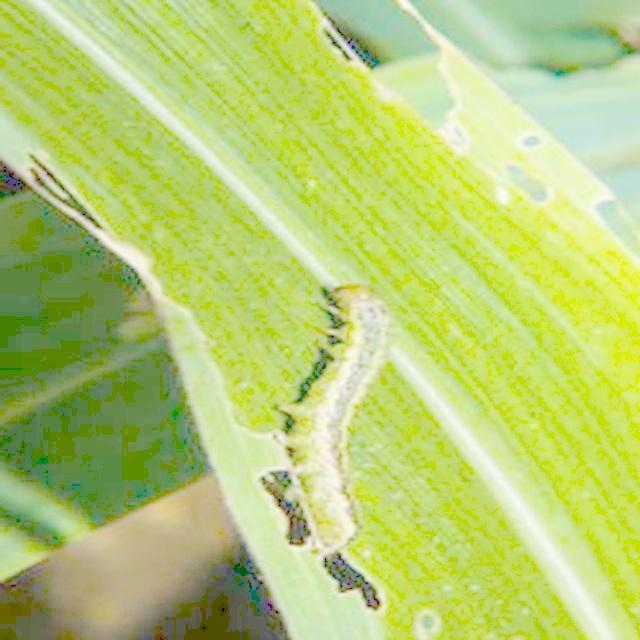Plaga: (279, 280, 397, 569)
